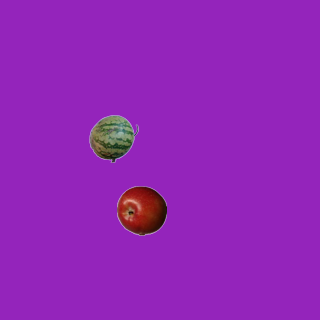Apple Braeburn: (116, 185, 166, 235)
Watermelon: (88, 113, 138, 163)
